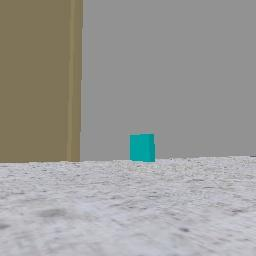turcoaz: (130, 134, 154, 161)
